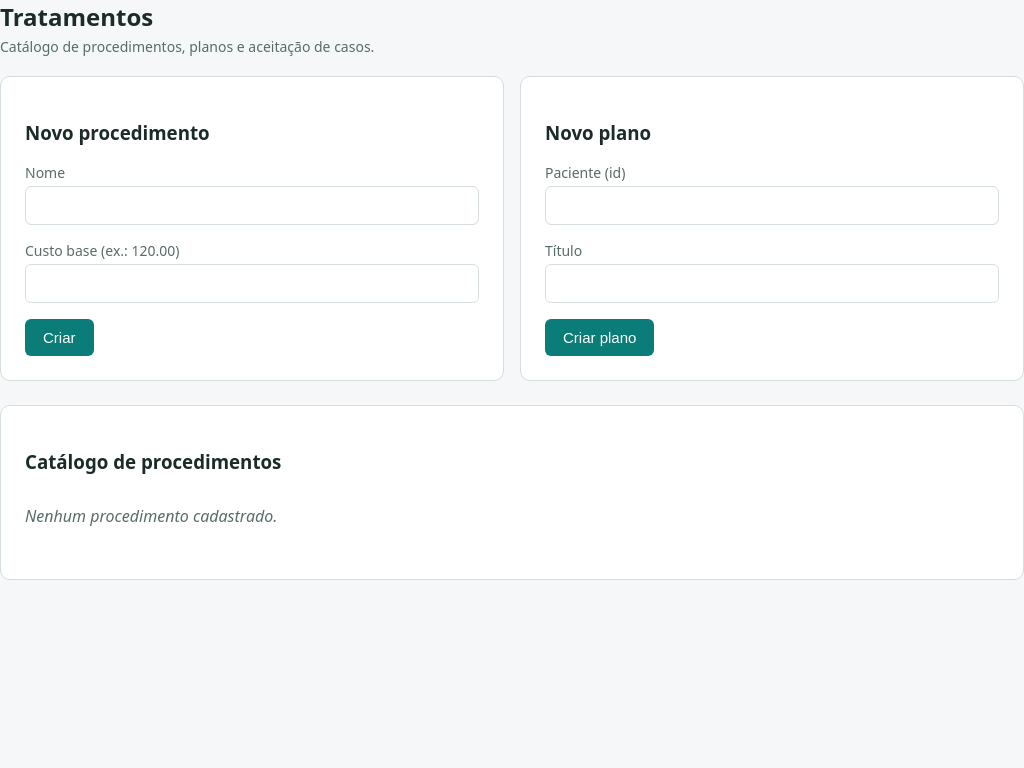
Scenario: TreatmentsPage › cria um plano e mostra o painel do plano
Expected: the form labelled "Criar plano" is shown, [520,76,1023,381]
Type "pat-1" into the field labelled "Paciente (id)". click: coordinates (772, 206)
box: [545,186,999,225]
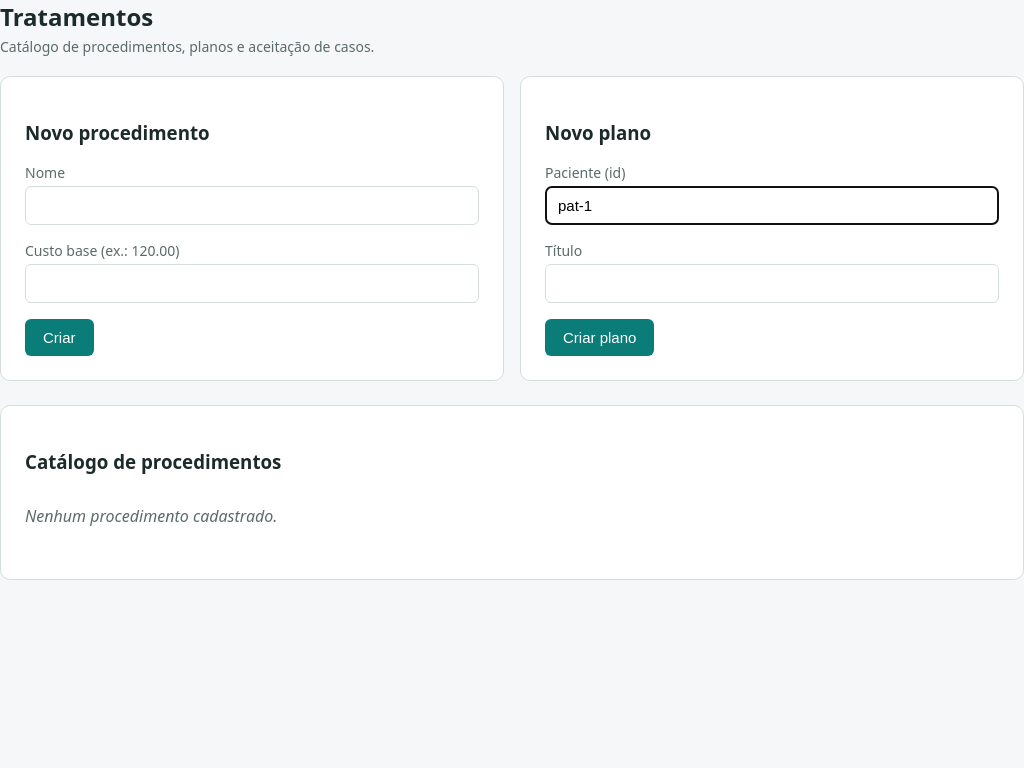
Type "Plano inicial" into the field labelled "Título". click: coordinates (772, 284)
box: [545,264,999,303]
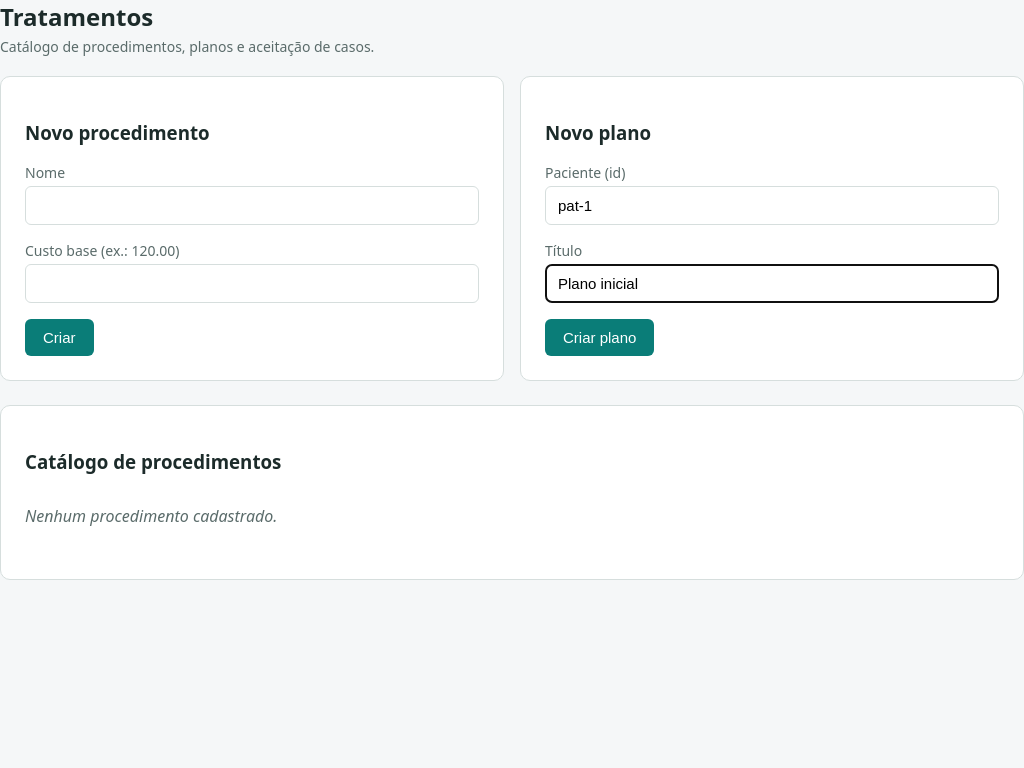
Click the button "Criar plano". click: coordinates (600, 338)
box: [545,319,654,356]
(page scrolled)
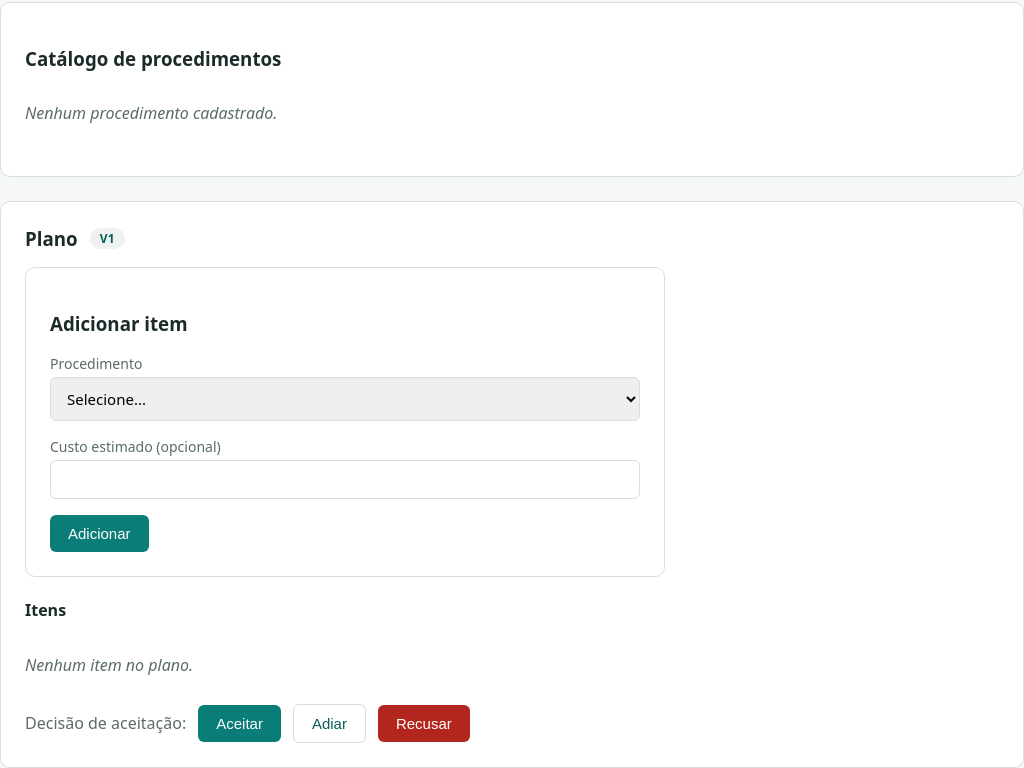
Expected: the element named "Plano ativo" is shown
